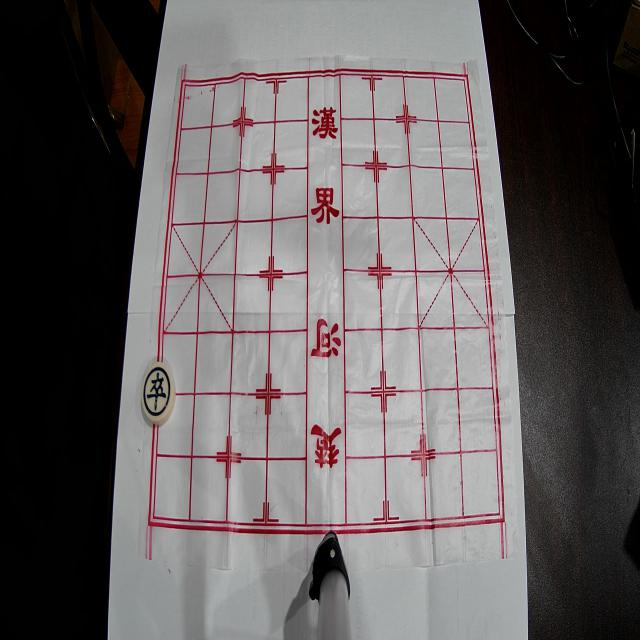black-soldier: (141, 362, 175, 425)
